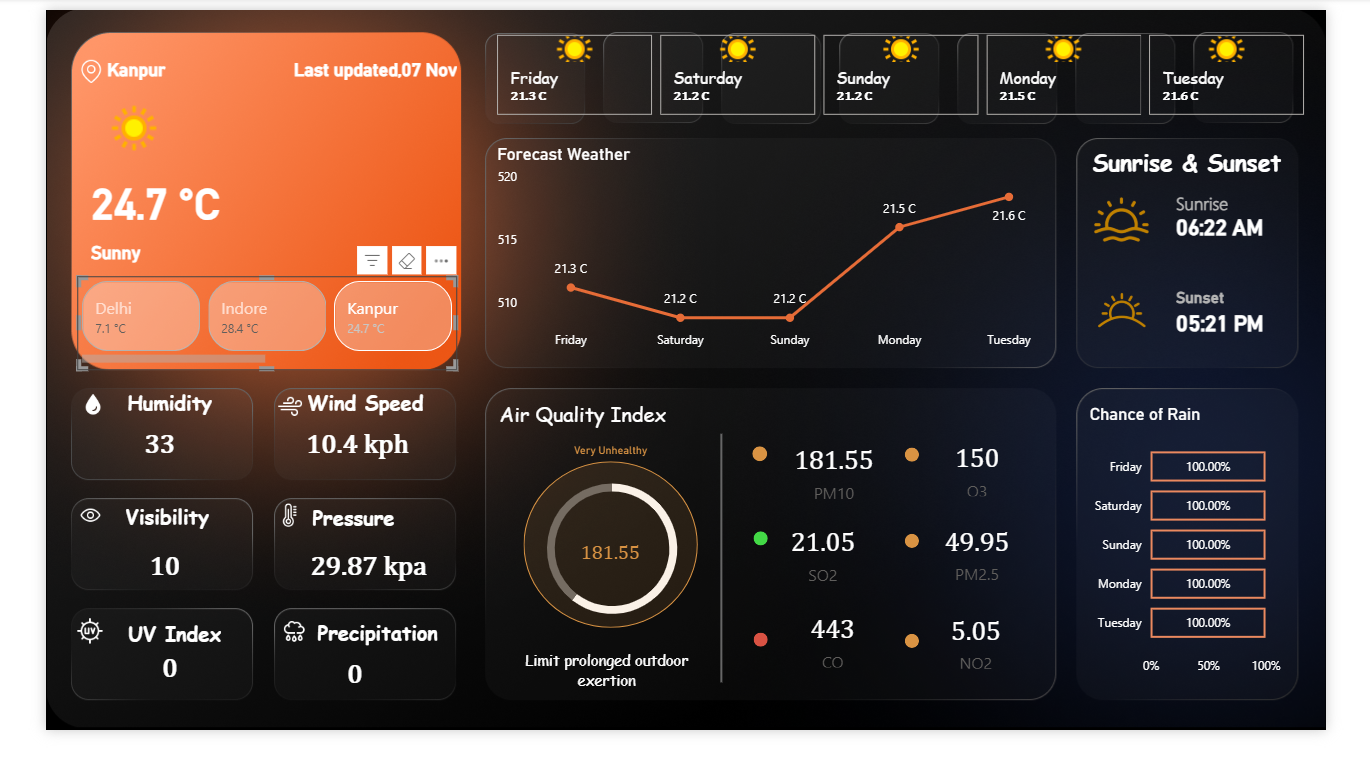

What the dashboard file says about the page in this screenshot:
{"tool":"powerbi","page":{"name":"Page 1","canvas":[1280,720],"ordinal":0},"visuals":[{"type":"advancedSlicerVisual","fields":{"Values":["location.location.name"],"Label":["_measures.curr_temp_c"]},"box":[31.7,266.7,380,93.3],"z":0},{"type":"shape","box":[45,145,170,97.5],"z":1000},{"type":"shape","box":[246.7,31.7,165,58.3],"z":2000},{"type":"shape","box":[61.7,31.7,126.7,58.3],"z":3000},{"type":"image","box":[0,45,90,33.3],"z":4000},{"type":"shape","box":[45,217.5,190,50],"z":5000},{"type":"cardVisual","fields":{"Data":["Min(current.current.condition.icon)"]},"box":[31.4,61.4,108.6,97.1],"z":6000},{"type":"image","box":[11.4,488.6,65.7,32.9],"z":7000},{"type":"shape","box":[58.6,377.1,130,32.9],"z":8000},{"type":"shape","box":[64.3,488.6,130,32.9],"z":9000},{"type":"shape","box":[64.3,608.6,130,32.9],"z":10000},{"type":"shape","box":[247.1,607.1,144.3,32.9],"z":11000},{"type":"shape","box":[247.1,488.6,130,32.9],"z":12000},{"type":"shape","box":[247.1,377.1,130,32.9],"z":13000},{"type":"image","box":[15.7,378.6,61.4,31.4],"z":14000},{"type":"image","box":[8.6,602.9,70,37.1],"z":15000},{"type":"image","box":[214.3,378.6,60,35.7],"z":16000},{"type":"image","box":[214.3,488.6,60,32.9],"z":17000},{"type":"image","box":[215.7,604.3,64.3,35.7],"z":18000},{"type":"card","fields":{"Values":["Sum(current.current.humidity)"]},"box":[38.6,410,150,48.6],"z":19000},{"type":"card","fields":{"Values":["Sum(current.current.precip_in)"]},"box":[234.3,640,150,48.6],"z":20000},{"type":"card","fields":{"Values":["Sum(current.current.vis_km)"]},"box":[44.3,531.4,150,48.6],"z":21000},{"type":"card","fields":{"Values":["Sum(current.current.uv)"]},"box":[48.6,641.4,150,32.9],"z":22000},{"type":"card","fields":{"Values":["_measures.pressure"]},"box":[247.1,531.4,150,48.6],"z":23000},{"type":"advancedSlicerVisual","fields":{"Values":["forecast by day.day name"],"Label":["_measures.ForTEMP_C"]},"box":[445.7,20,820,90],"z":24000},{"type":"lineChart","title":"Forecast Weather ","fields":{"Y":["Sum(forecast by day.forecast.forecastday.day.avgtemp_c)"],"Category":["forecast by day.day name"]},"box":[445.7,134.3,565.7,214.3],"z":25000},{"type":"shape","box":[1040,135.7,201.4,41.4],"z":26000},{"type":"shape","box":[1130,168.6,111.4,48.6],"z":27000},{"type":"shape","box":[1130,264.3,111.4,48.6],"z":28000},{"type":"shape","box":[1130,192.9,111.4,48.6],"z":29000},{"type":"shape","box":[1130,288.6,111.4,48.6],"z":30000},{"type":"image","box":[1035.7,264.3,78.6,72.9],"z":31000},{"type":"image","box":[1035.7,177.1,78.6,64.3],"z":32000},{"type":"hundredPercentStackedBarChart","title":"Chance of Rain ","fields":{"Y":["Sum(forecast by day.forecast.forecastday.day.daily_chance_of_rain)","_measures.LEFT VALUE RAIN"],"Category":["forecast by day.day name"]},"box":[1039,394,201,280],"z":33000},{"type":"shape","box":[445.7,390,181.4,40],"z":34000},{"type":"card","fields":{"Values":["_measures.wind_speed"]},"box":[236.7,410,150,48.3],"z":35000},{"type":"card","fields":{"Values":["Sum(current.current.air_quality.pm2_5)"]},"box":[873.3,505,115,75],"z":37000},{"type":"card","fields":{"Values":["Sum(current.current.air_quality.o3)"]},"box":[873.3,426.7,115,65],"z":38000},{"type":"card","fields":{"Values":["Sum(current.current.air_quality.so2)"]},"box":[721.7,506.7,111.7,73.3],"z":39000},{"type":"card","fields":{"Values":["Sum(current.current.air_quality.no2)"]},"box":[872.5,598.8,115,65],"z":40000},{"type":"card","fields":{"Values":["Sum(current.current.air_quality.co)"]},"box":[728.8,597.5,116.2,65],"z":41000},{"type":"card","fields":{"Values":["Sum(current.current.air_quality.pm10)"]},"box":[731.2,426.2,113.8,68.8],"z":42000},{"type":"shape","box":[706.7,436.7,15,15],"z":43000},{"type":"shape","box":[707.1,622.9,14.3,14.3],"z":43002},{"type":"shape","box":[707.1,521.4,14.3,14.3],"z":43003},{"type":"shape","box":[858.6,524.3,14.3,14.3],"z":43004},{"type":"shape","box":[858.6,437.1,14.3,14.3],"z":43005},{"type":"shape","box":[858.6,624.3,14.3,14.3],"z":43006},{"type":"shape","box":[627.1,424.3,95.7,248.6],"z":43007},{"type":"card","fields":{"Values":["Sum(current.current.air_quality.pm10)"]},"box":[507.1,508.6,114.3,68.6],"z":43009},{"type":"donutChart","fields":{"Y":["Sum(current.current.air_quality.pm10)","MEASURE.left value PM10"]},"box":[455.7,452.9,220,172.9],"z":43010},{"type":"shape","box":[477.1,434.3,174.3,184.3],"z":43011},{"type":"shape","box":[470,640,181.4,40],"z":43012}]}

Visuals, with their boxes in screenshot pixels (x1, y1, x2, y2), scaled from the page's 1280x720 canvas onto the 1370x779 screenshot:
advancedSlicerVisual - location.location.name x _measures.curr_temp_c: (left=34, top=289, right=441, bottom=390)
shape: (left=48, top=157, right=230, bottom=262)
shape: (left=264, top=34, right=441, bottom=97)
shape: (left=66, top=34, right=202, bottom=97)
image: (left=0, top=49, right=96, bottom=85)
shape: (left=48, top=235, right=252, bottom=289)
cardVisual - Min(current.current.condition.icon): (left=34, top=66, right=150, bottom=171)
image: (left=12, top=529, right=83, bottom=564)
shape: (left=63, top=408, right=202, bottom=444)
shape: (left=69, top=529, right=208, bottom=564)
shape: (left=69, top=658, right=208, bottom=694)
shape: (left=264, top=657, right=419, bottom=692)
shape: (left=264, top=529, right=404, bottom=564)
shape: (left=264, top=408, right=404, bottom=444)
image: (left=17, top=410, right=83, bottom=444)
image: (left=9, top=652, right=84, bottom=692)
image: (left=229, top=410, right=294, bottom=448)
image: (left=229, top=529, right=294, bottom=564)
image: (left=231, top=654, right=300, bottom=692)
card - Sum(current.current.humidity): (left=41, top=444, right=202, bottom=496)
card - Sum(current.current.precip_in): (left=251, top=692, right=411, bottom=745)
card - Sum(current.current.vis_km): (left=47, top=575, right=208, bottom=628)
card - Sum(current.current.uv): (left=52, top=694, right=213, bottom=730)
card - _measures.pressure: (left=264, top=575, right=425, bottom=628)
advancedSlicerVisual - forecast by day.day name x _measures.ForTEMP_C: (left=477, top=22, right=1355, bottom=119)
"Forecast Weather " lineChart: (left=477, top=145, right=1083, bottom=377)
shape: (left=1113, top=147, right=1329, bottom=192)
shape: (left=1209, top=182, right=1329, bottom=235)
shape: (left=1209, top=286, right=1329, bottom=339)
shape: (left=1209, top=209, right=1329, bottom=261)
shape: (left=1209, top=312, right=1329, bottom=365)
image: (left=1109, top=286, right=1193, bottom=365)
image: (left=1109, top=192, right=1193, bottom=261)
"Chance of Rain " hundredPercentStackedBarChart: (left=1112, top=426, right=1327, bottom=729)
shape: (left=477, top=422, right=671, bottom=465)
card - _measures.wind_speed: (left=253, top=444, right=414, bottom=496)
card - Sum(current.current.air_quality.pm2_5): (left=935, top=546, right=1058, bottom=628)
card - Sum(current.current.air_quality.o3): (left=935, top=462, right=1058, bottom=532)
card - Sum(current.current.air_quality.so2): (left=772, top=548, right=892, bottom=628)
card - Sum(current.current.air_quality.no2): (left=934, top=648, right=1057, bottom=718)
card - Sum(current.current.air_quality.co): (left=780, top=646, right=904, bottom=717)
card - Sum(current.current.air_quality.pm10): (left=783, top=461, right=904, bottom=536)
shape: (left=756, top=472, right=772, bottom=489)
shape: (left=757, top=674, right=772, bottom=689)
shape: (left=757, top=564, right=772, bottom=580)
shape: (left=919, top=567, right=934, bottom=583)
shape: (left=919, top=473, right=934, bottom=488)
shape: (left=919, top=675, right=934, bottom=691)
shape: (left=671, top=459, right=774, bottom=728)
card - Sum(current.current.air_quality.pm10): (left=543, top=550, right=665, bottom=624)
donutChart - Sum(current.current.air_quality.pm10) x MEASURE.left value PM10: (left=488, top=490, right=723, bottom=677)
shape: (left=511, top=470, right=697, bottom=669)
shape: (left=503, top=692, right=697, bottom=736)
